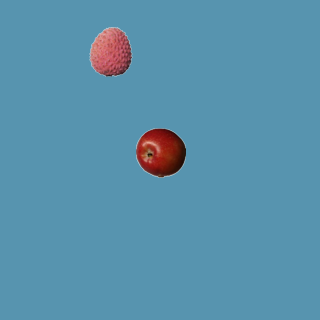Apple Braeburn: (135, 127, 185, 177)
Lychee: (85, 26, 135, 76)
